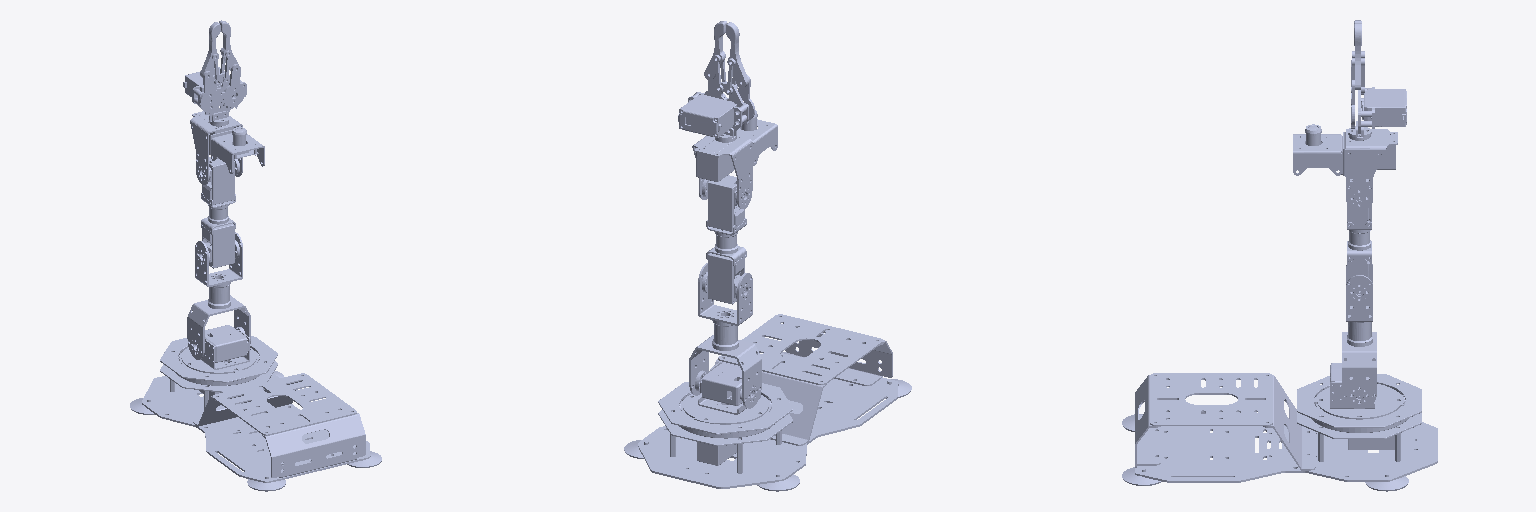
robot.urdf — armpi_fpv:
<?xml version="1.0" encoding="utf-8"?>
<!-- This URDF was automatically created by SolidWorks to URDF Exporter! Originally created by [author] ([email redacted]) 
     Commit Version: 1.6.0-1-g15f4949  Build Version: 1.6.7594.29634
     For more information, please see http://wiki.ros.org/sw_urdf_exporter -->
<robot
  name="armpi_fpv">
  <link
    name="base_link">
   <!--
    <inertial>
      <origin
        xyz="-4.934E-05 -0.068274 0.014557"
        rpy="0 0 0" />
      <mass
        value="0.15937" />
      <inertia
        ixx="0.00050053"
        ixy="-5.0613E-10"
        ixz="7.3399E-11"
        iyy="0.00019115"
        iyz="1.8631E-06"
        izz="0.0006778" />
    </inertial>
  -->
    <visual>
      <origin
        xyz="0 0 0"
        rpy="0 0 0" />
      <geometry>
        <mesh
          filename="package://armpi_fpv/meshes/base_link.STL" />
      </geometry>
      <material
        name="">
        <color
          rgba="0.79216 0.81961 0.93333 1" />
      </material>
    </visual>
    <collision>
      <origin
        xyz="0 0 0"
        rpy="0 0 0" />
      <geometry>
        <mesh
          filename="package://armpi_fpv/meshes/base_link.STL" />
      </geometry>
    </collision>
  </link>
  <link
    name="link1">
    <inertial>
      <origin
        xyz="0.0010201 -0.0033151 0.022234"
        rpy="0 0 0" />
      <mass
        value="0.063838" />
      <inertia
        ixx="2.8951E-05"
        ixy="-3.0801E-09"
        ixz="3.848E-11"
        iyy="2.6473E-05"
        iyz="1.3155E-07"
        izz="5.2885E-05" />
    </inertial>
    <visual>
      <origin
        xyz="0 0 0"
        rpy="0 0 0" />
      <geometry>
        <mesh
          filename="package://armpi_fpv/meshes/link1.STL" />
      </geometry>
      <material
        name="">
        <color
          rgba="0.79216 0.81961 0.93333 1" />
      </material>
    </visual>
    <collision>
      <origin
        xyz="0 0 0"
        rpy="0 0 0" />
      <geometry>
        <mesh
          filename="package://armpi_fpv/meshes/link1.STL" />
      </geometry>
    </collision>
  </link>
  <joint
    name="joint1"
    type="revolute">
    <origin
      xyz="0 0 0.028505"
      rpy="0 0 0" />
    <parent
      link="base_link" />
    <child
      link="link1" />
    <axis
      xyz="0 0 1" />
    <limit
      lower="-2.09"
      upper="2.09"
      effort="1000"
      velocity="10" />
  </joint>
  <link
    name="link2">
    <inertial>
      <origin
        xyz="0.00042427 1.9314E-05 0.051434"
        rpy="0 0 0" />
      <mass
        value="0.026379" />
      <inertia
        ixx="5.7789E-06"
        ixy="6.3159E-13"
        ixz="5.846E-10"
        iyy="1.1214E-05"
        iyz="-5.5917E-09"
        izz="8.3378E-06" />
    </inertial>
    <visual>
      <origin
        xyz="0 0 0"
        rpy="0 0 0" />
      <geometry>
        <mesh
          filename="package://armpi_fpv/meshes/link2.STL" />
      </geometry>
      <material
        name="">
        <color
          rgba="0.79216 0.81961 0.93333 1" />
      </material>
    </visual>
    <collision>
      <origin
        xyz="0 0 0"
        rpy="0 0 0" />
      <geometry>
        <mesh
          filename="package://armpi_fpv/meshes/link2.STL" />
      </geometry>
    </collision>
  </link>
  <joint
    name="joint2"
    type="revolute">
    <origin
      xyz="0 0 0.0361"
      rpy="0 0 0" />
    <parent
      link="link1" />
    <child
      link="link2" />
    <axis
      xyz="1 0 0" />
    <limit
      lower="-1.57"
      upper="1.57"
      effort="1000"
      velocity="10" />
  </joint>
  <link
    name="link3">
    <inertial>
      <origin
        xyz="-0.0016391 1.0246E-05 0.047357"
        rpy="0 0 0" />
      <mass
        value="0.052902" />
      <inertia
        ixx="1.0264E-05"
        ixy="1.3804E-10"
        ixz="-1.1547E-11"
        iyy="9.1582E-06"
        iyz="4.1386E-10"
        izz="3.5342E-06" />
    </inertial>
    <visual>
      <origin
        xyz="0 0 0"
        rpy="0 0 0" />
      <geometry>
        <mesh
          filename="package://armpi_fpv/meshes/link3.STL" />
      </geometry>
      <material
        name="">
        <color
          rgba="0.79216 0.81961 0.93333 1" />
      </material>
    </visual>
    <collision>
      <origin
        xyz="0 0 0"
        rpy="0 0 0" />
      <geometry>
        <mesh
          filename="package://armpi_fpv/meshes/link3.STL" />
      </geometry>
    </collision>
  </link>
  <joint
    name="joint3"
    type="revolute">
    <origin
      xyz="0 0 0.10048"
      rpy="0 0 0" />
    <parent
      link="link2" />
    <child
      link="link3" />
    <axis
      xyz="1 0 0" />
    <limit
      lower="-2.09"
      upper="2.09"
      effort="1000"
      velocity="10" />
  </joint>
  <link
    name="link4">
    <inertial>
      <origin
        xyz="0.00038729860496884 0.00907873818454272 0.0332283475103399"
        rpy="0 0 0" />
      <mass
        value="0.0306426339078366" />
      <inertia
        ixx="7.38817192356533E-06"
        ixy="-7.96585567054944E-10"
        ixz="-8.04124799997983E-12"
        iyy="5.91512249692476E-06"
        iyz="-3.9489810607674E-07"
        izz="7.78559091266955E-06" />
    </inertial>
    <visual>
      <origin
        xyz="0 0 0"
        rpy="0 0 0" />
      <geometry>
        <mesh
          filename="package://armpi_fpv/meshes/link4.STL" />
      </geometry>
      <material
        name="">
        <color
          rgba="0.792156862745098 0.819607843137255 0.933333333333333 1" />
      </material>
    </visual>
    <collision>
      <origin
        xyz="0 0 0"
        rpy="0 0 0" />
      <geometry>
        <mesh
          filename="package://armpi_fpv/meshes/link4.STL" />
      </geometry>
    </collision>
  </link>
  <joint
    name="joint4"
    type="revolute">
    <origin
      xyz="0 0 0.094714"
      rpy="0 0 0" />
    <parent
      link="link3" />
    <child
      link="link4" />
    <axis
      xyz="1 0 0" />
    <limit
      lower="-2.09"
      upper="2.09"
      effort="1000"
      velocity="10" />
  </joint>
  <link
    name="camera_link">
    <inertial>
      <origin
        xyz="0.000331820290572122 0.00895390425891458 -0.00555358926723143"
        rpy="0 0 0" />
      <mass
        value="0.013338478094918" />
      <inertia
        ixx="1.98496727909256E-06"
        ixy="-1.22022751315402E-08"
        ixz="4.41414348189008E-08"
        iyy="2.36163896904187E-06"
        iyz="1.54197231994083E-07"
        izz="3.25714605613889E-06" />
    </inertial>
    <visual>
      <origin
        xyz="0 0 0"
        rpy="0 0 0" />
      <geometry>
        <mesh
          filename="package://armpi_fpv/meshes/camera_link.STL" />
      </geometry>
      <material
        name="">
        <color
          rgba="0.792156862745098 0.819607843137255 0.933333333333333 1" />
      </material>
    </visual>
    <collision>
      <origin
        xyz="0 0 0"
        rpy="0 0 0" />
      <geometry>
        <mesh
          filename="package://armpi_fpv/meshes/camera_link.STL" />
      </geometry>
    </collision>
  </link>
  <joint
    name="camera_joint"
    type="fixed">
    <origin
      xyz="0 -0.042169 0.046483"
      rpy="0 0 0" />
    <parent
      link="link4" />
    <child
      link="camera_link" />
    <axis
      xyz="0 0 0" />
  </joint>

  <link
    name="link5">
    <inertial>
      <origin
        xyz="0.00324 0.01259 0.02876"
        rpy="0 0 0" />
      <mass
        value="0.0198376144888064" />
      <inertia
        ixx="1.65350569991433E-06"
        ixy="2.43052736980453E-08"
        ixz="-2.21200681356087E-08"
        iyy="4.22371338980749E-06"
        iyz="1.14569679795359E-09"
        izz="3.40724992328232E-06" />
    </inertial>
    <visual>
      <origin
        xyz="0 0 0"
        rpy="0 0 0" />
      <geometry>
        <mesh
          filename="package://armpi_fpv/meshes/link5.STL" />
      </geometry>
      <material
        name="">
        <color
          rgba="0.792156862745098 0.819607843137255 0.933333333333333 1" />
      </material>
    </visual>
    <collision>
      <origin
        xyz="0 0 0"
        rpy="0 0 0" />
      <geometry>
        <mesh
          filename="package://armpi_fpv/meshes/link5.STL" />
      </geometry>
    </collision>
  </link>
  <joint
    name="joint5"
    type="revolute">
    <origin
      xyz="0 0 0.05071"
      rpy="0 0 0" />
    <parent
      link="link4" />
    <child
      link="link5" />
    <axis
      xyz="0 0 1" />
    <limit
      lower="-2.09"
      upper="2.09"
      effort="1000"
      velocity="5" />
  </joint>
  <link name="grasping_frame"/>

  <joint name="grasping_frame_joint" type="fixed">
    <parent link="link5"/>
    <child link="grasping_frame"/>
    <origin xyz="0 0 0.1126" rpy="0 0 0"/>
  </joint>
  <link
    name="gripper_base">
    <inertial>
      <origin
        xyz="0.00312 0.01432 0.03101"
        rpy="0 0 0" />
      <mass
        value="0.0176105871345009" />
      <inertia
        ixx="1.5708815504179E-06"
        ixy="2.51402116906045E-08"
        ixz="-2.26426177315553E-08"
        iyy="4.12752565554833E-06"
        iyz="-5.90507564364135E-10"
        izz="3.26180194932723E-06" />
    </inertial>
    <visual>
      <origin
        xyz="0 0 0"
        rpy="0 0 0" />
      <geometry>
        <mesh
          filename="package://armpi_fpv/meshes/gripper_base.STL" />
      </geometry>
      <material
        name="">
        <color
          rgba="0.792156862745098 0.819607843137255 0.933333333333333 1" />
      </material>
    </visual>
    <collision>
      <origin
        xyz="0 0 0"
        rpy="0 0 0" />
      <geometry>
        <mesh
          filename="package://armpi_fpv/meshes/gripper_base.STL" />
      </geometry>
    </collision>
  </link>
  <joint
    name="gripper_base_joint"
    type="fixed">
    <origin
      xyz="0 0 0"
      rpy="0 0 0" />
    <parent
      link="link5" />
    <child
      link="gripper_base" />
    <axis
      xyz="0 0 0" />
  </joint>
  <link
    name="r_link">
    <inertial>
      <origin
        xyz="-0.00451 -0.00435 0.0015"
        rpy="0 0 0" />
      <mass
        value="0.00206265425539028" />
      <inertia
        ixx="2.27206715089548E-07"
        ixy="-1.19760468530682E-07"
        ixz="-5.52626664650897E-14"
        iyy="1.73118448241303E-07"
        iyz="3.6212219660873E-14"
        izz="3.97231131418846E-07" />
    </inertial>
    <visual>
      <origin
        xyz="0 0 0"
        rpy="0 0 0" />
      <geometry>
        <mesh
          filename="package://armpi_fpv/meshes/r_link.STL" />
      </geometry>
      <material
        name="">
        <color
          rgba="0.792156862745098 0.819607843137255 0.933333333333333 1" />
      </material>
    </visual>
    <collision>
      <origin
        xyz="0 0 0"
        rpy="0 0 0" />
      <geometry>
        <mesh
          filename="package://armpi_fpv/meshes/r_link.STL" />
      </geometry>
    </collision>
  </link>
  <joint
    name="r_joint"
    type="revolute">
    <origin
      xyz="0.01399 -0.00748 0.03255"
      rpy="-1.5725 0.81063 0" />
    <parent
      link="gripper_base" />
    <child
      link="r_link" />
    <axis
      xyz="0 0 -1" />
    <limit
      lower="-1.57"
      upper="1.57"
      effort="1000"
      velocity="5" />
  </joint>
  <link
    name="r_in_link">
    <inertial>
      <origin
        xyz="-0.00954 -0.01092 0.006"
        rpy="0 0 0" />
      <mass
        value="0.000776872870583588" />
      <inertia
        ixx="5.63560750477043E-08"
        ixy="-4.72744633557675E-08"
        ixz="-3.79461916645956E-21"
        iyy="4.3559232177442E-08"
        iyz="-2.93774244679845E-21"
        izz="9.8750019150699E-08" />
    </inertial>
    <visual>
      <origin
        xyz="0 0 0"
        rpy="0 0 0" />
      <geometry>
        <mesh
          filename="package://armpi_fpv/meshes/r_in_link.STL" />
      </geometry>
      <material
        name="">
        <color
          rgba="0.792156862745098 0.819607843137255 0.933333333333333 1" />
      </material>
    </visual>
    <collision>
      <origin
        xyz="0 0 0"
        rpy="0 0 0" />
      <geometry>
        <mesh
          filename="package://armpi_fpv/meshes/r_in_link.STL" />
      </geometry>
    </collision>
  </link>
  <joint
    name="r_in_joint"
    type="continuous">
    <origin
      xyz="0.00499 -0.0075 0.05152"
      rpy="-1.5725 0.81127 0" />
    <parent
      link="gripper_base" />
    <child
      link="r_in_link" />
    <axis
      xyz="0 0 -1" />
    <mimic
      joint="r_joint"
      multiplier="1"
      offset="0" />
  </joint>
  <link
    name="r_out_link">
    <inertial>
      <origin
        xyz="0.00921 -0.00318 -0.00148"
        rpy="0 0 0" />
      <mass
        value="0.00384736745316057" />
      <inertia
        ixx="3.94300335300673E-08"
        ixy="-7.61671057300203E-09"
        ixz="-9.59541277441841E-12"
        iyy="8.50841629381356E-07"
        iyz="2.65061801639529E-13"
        izz="8.77392844404812E-07" />
    </inertial>
    <visual>
      <origin
        xyz="0 0 0"
        rpy="0 0 0" />
      <geometry>
        <mesh
          filename="package://armpi_fpv/meshes/r_out_link.STL" />
      </geometry>
      <material
        name="">
        <color
          rgba="0.792156862745098 0.819607843137255 0.933333333333333 1" />
      </material>
    </visual>
    <collision>
      <origin
        xyz="0 0 0"
        rpy="0 0 0" />
      <geometry>
        <mesh
          filename="package://armpi_fpv/meshes/r_out_link.STL" />
      </geometry>
    </collision>
  </link>
  <joint
    name="r_out_joint"
    type="continuous">
    <origin
      xyz="-0.01908 -0.02184 0.0045"
      rpy="-3.1413 0 -2.5695" />
    <parent
      link="r_in_link" />
    <child
      link="r_out_link" />
    <axis
      xyz="0 0 -1" />
    <mimic
      joint="r_joint"
      multiplier="1"
      offset="0" />
  </joint>
  <link
    name="l_link">
    <inertial>
      <origin
        xyz="-0.00526 0.0025 0"
        rpy="0 0 0" />
      <mass
        value="0.00218927553366064" />
      <inertia
        ixx="1.46541548954489E-07"
        ixy="1.1331545502853E-07"
        ixz="1.86896328777135E-12"
        iyy="2.6214517556132E-07"
        iyz="-2.39207587891263E-13"
        izz="4.05402978435981E-07" />
    </inertial>
    <visual>
      <origin
        xyz="0 0 0"
        rpy="0 0 0" />
      <geometry>
        <mesh
          filename="package://armpi_fpv/meshes/l_link.STL" />
      </geometry>
      <material
        name="">
        <color
          rgba="0.792156862745098 0.819607843137255 0.933333333333333 1" />
      </material>
    </visual>
    <collision>
      <origin
        xyz="0 0 0"
        rpy="0 0 0" />
      <geometry>
        <mesh
          filename="package://armpi_fpv/meshes/l_link.STL" />
      </geometry>
    </collision>
  </link>
  <joint
    name="l_joint"
    type="revolute">
    <origin
      xyz="-0.01401 -0.00603 0.03253"
      rpy="1.5692 1.149 3.1416" />
    <parent
      link="gripper_base" />
    <child
      link="l_link" />
    <axis
      xyz="0 0 -1" />
    <limit
      lower="-3.14"
      upper="3.14"
      effort="1000"
      velocity="10" />
    <mimic
      joint="r_joint"
      multiplier="-1"
      offset="0" />
  </joint>
  <link
    name="l_in_link">
    <inertial>
      <origin
        xyz="0.00135 0.01444 0.0045"
        rpy="0 0 0" />
      <mass
        value="0.000776872871244906" />
      <inertia
        ixx="9.68377592048552E-08"
        ixy="-8.83574513058366E-09"
        ixz="-8.99736402977211E-22"
        iyy="3.07754813125031E-09"
        iyz="-1.3466692021387E-20"
        izz="9.87500192610647E-08" />
    </inertial>
    <visual>
      <origin
        xyz="0 0 0"
        rpy="0 0 0" />
      <geometry>
        <mesh
          filename="package://armpi_fpv/meshes/l_in_link.STL" />
      </geometry>
      <material
        name="">
        <color
          rgba="0.792156862745098 0.819607843137255 0.933333333333333 1" />
      </material>
    </visual>
    <collision>
      <origin
        xyz="0 0 0"
        rpy="0 0 0" />
      <geometry>
        <mesh
          filename="package://armpi_fpv/meshes/l_in_link.STL" />
      </geometry>
    </collision>
  </link>
  <joint
    name="l_in_joint"
    type="continuous">
    <origin
      xyz="-0.00502 -0.006 0.05152"
      rpy="1.5719 0 3.1404" />
    <parent
      link="gripper_base" />
    <child
      link="l_in_link" />
    <axis
      xyz="0 0 -1" />
    <mimic
      joint="r_joint"
      multiplier="-1"
      offset="0" />
  </joint>
  <link
    name="l_out_link">
    <inertial>
      <origin
        xyz="0.00921 -0.00318 0.00148"
        rpy="0 0 0" />
      <mass
        value="0.00384736003408795" />
      <inertia
        ixx="3.94299868139123E-08"
        ixy="-7.61977962794645E-09"
        ixz="8.28793192035387E-12"
        iyy="8.50830170189603E-07"
        iyz="3.37534642199275E-12"
        izz="8.77381368600846E-07" />
    </inertial>
    <visual>
      <origin
        xyz="0 0 0"
        rpy="0 0 0" />
      <geometry>
        <mesh
          filename="package://armpi_fpv/meshes/l_out_link.STL" />
      </geometry>
      <material
        name="">
        <color
          rgba="0.792156862745098 0.819607843137255 0.933333333333333 1" />
      </material>
    </visual>
    <collision>
      <origin
        xyz="0 0 0"
        rpy="0 0 0" />
      <geometry>
        <mesh
          filename="package://armpi_fpv/meshes/l_out_link.STL" />
      </geometry>
    </collision>
  </link>
  <joint
    name="l_out_joint"
    type="continuous">
    <origin
      xyz="0.0027 0.02888 0.003"
      rpy="-0 0 1.7582" />
    <parent
      link="l_in_link" />
    <child
      link="l_out_link" />
    <axis
      xyz="0 0 -1" />
    <mimic
      joint="r_joint"
      multiplier="1"
      offset="0" />
  </joint>
</robot>

--- Facts derived from the render (not from the file) ---
Views: 3 orthographic renders of the robot side by side, from view 1: azimuth 30°, elevation 25°; view 2: azimuth 150°, elevation 25°; view 3: azimuth 270°, elevation 25°.
Model armpi_fpv with 15 links and 14 joints (7 revolute, 4 continuous, 3 fixed), rooted at base_link, posed every joint at zero.
Links seen in each view (by area): view 1: base_link, link2, link3, link1, camera_link, link4, gripper_base, l_link, r_link; view 2: base_link, link2, link3, link1, link4, gripper_base, camera_link, l_out_link, r_out_link; view 3: base_link, link2, link4, link1, camera_link, gripper_base, link3.
Boxes of the visible links, x1=… form: base_link: x1=130, y1=336, x2=381, y2=491; link2: x1=187, y1=232, x2=250, y2=359; link3: x1=201, y1=157, x2=235, y2=268; link1: x1=177, y1=325, x2=259, y2=385; camera_link: x1=209, y1=126, x2=264, y2=173; link4: x1=190, y1=111, x2=242, y2=184; gripper_base: x1=183, y1=67, x2=246, y2=123; l_link: x1=199, y1=71, x2=223, y2=114; r_link: x1=221, y1=64, x2=244, y2=108; base_link: x1=624, y1=314, x2=911, y2=491; link2: x1=689, y1=263, x2=761, y2=408; link3: x1=706, y1=175, x2=746, y2=304; link1: x1=679, y1=362, x2=774, y2=438; link4: x1=692, y1=135, x2=752, y2=208; gripper_base: x1=678, y1=82, x2=748, y2=139; camera_link: x1=737, y1=110, x2=777, y2=165; l_out_link: x1=726, y1=22, x2=748, y2=87; r_out_link: x1=704, y1=21, x2=727, y2=79; base_link: x1=1122, y1=373, x2=1437, y2=491; link2: x1=1342, y1=264, x2=1376, y2=408; link4: x1=1346, y1=129, x2=1397, y2=210; link1: x1=1311, y1=363, x2=1408, y2=432; camera_link: x1=1293, y1=124, x2=1353, y2=180; gripper_base: x1=1348, y1=87, x2=1406, y2=136; link3: x1=1347, y1=179, x2=1371, y2=298.
Bounding box of the posed robot: 0.1771 × 0.2884 × 0.4312 m (x, y, z).
Meshes: 14 distinct files referenced, 14 mesh visuals loaded (14 binary STL).
